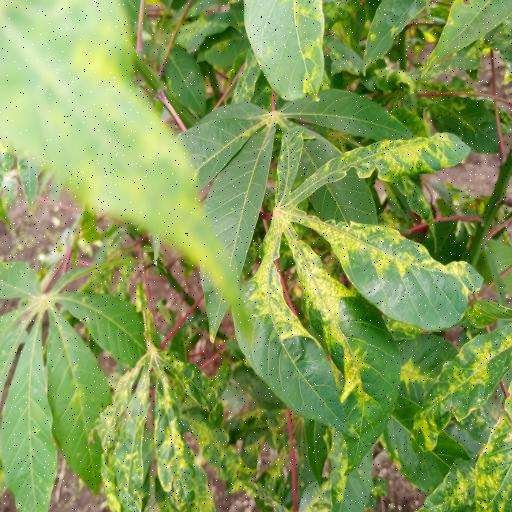Cassava_Mosaic: (258, 128, 478, 381), (98, 331, 216, 512), (412, 325, 512, 512)
